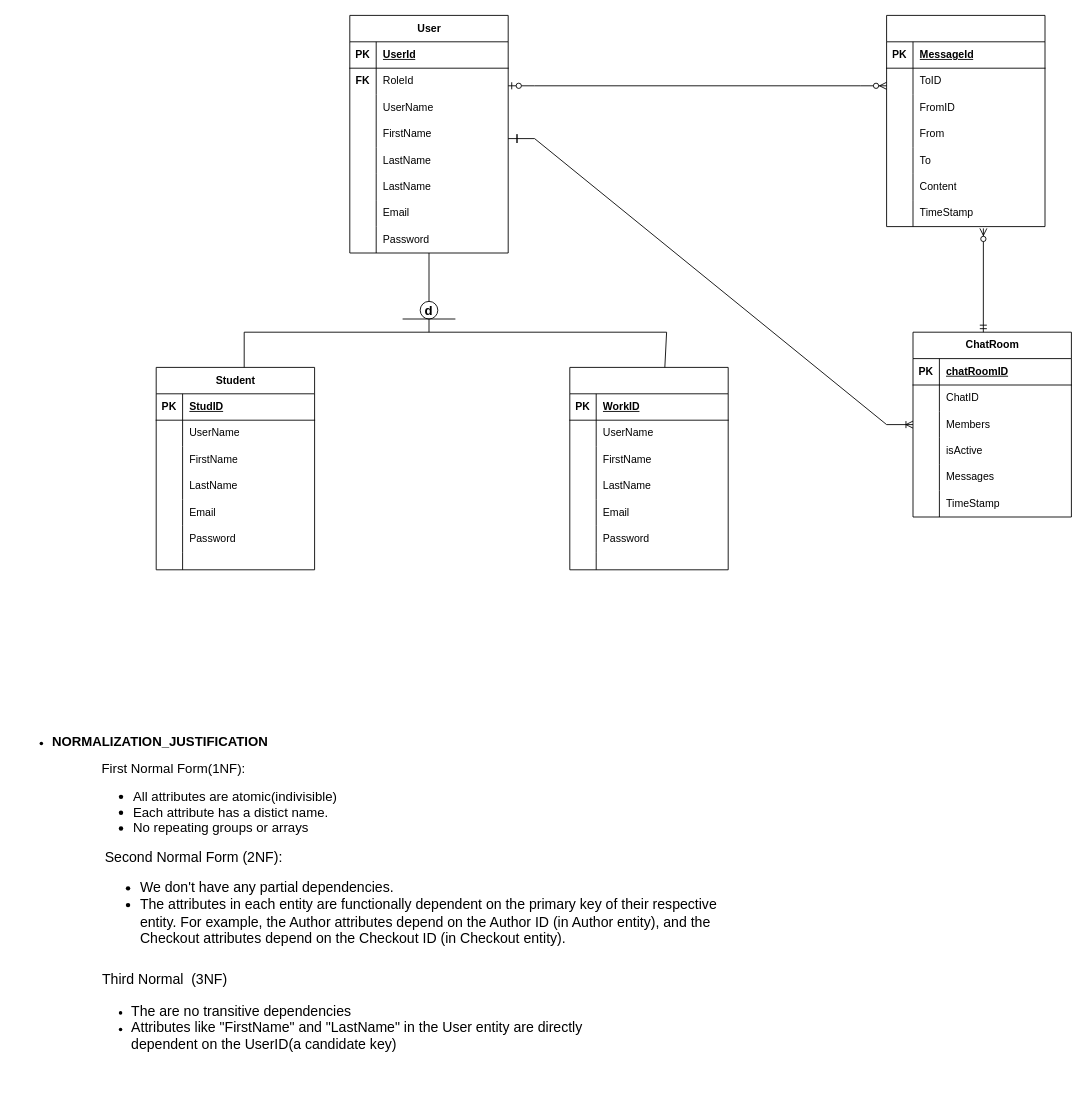
Some shapes in this 1087 by 1096 pixel diagram are drawn without their labels. Each missing label, with the box of its shape:
Administrator: (569, 367, 728, 570)
Mesasage: (886, 15, 1045, 227)
